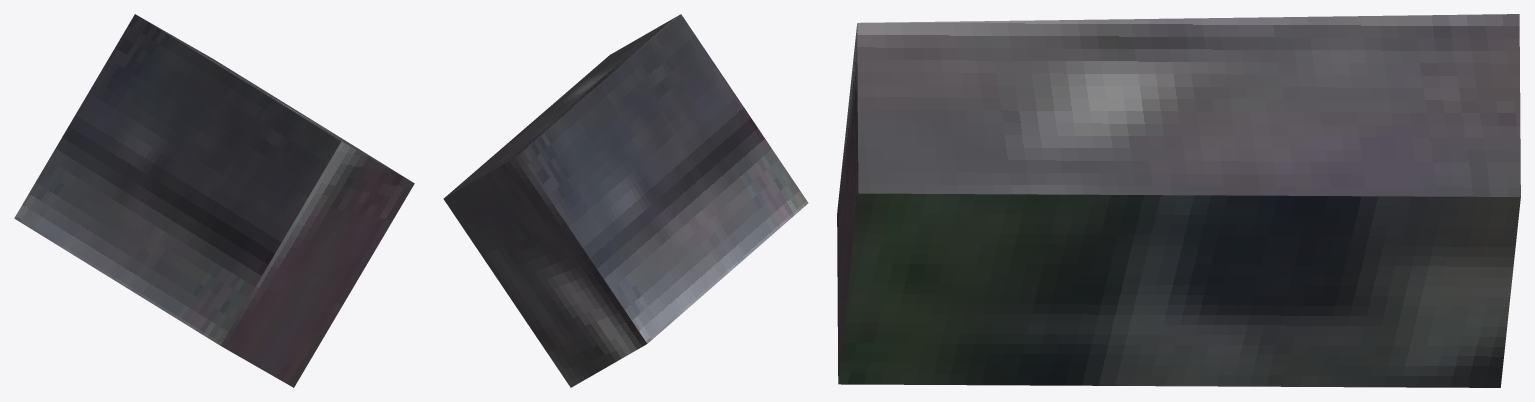
3 views of the same model, side by side, from view 1: azimuth 30°, elevation 25°; view 2: azimuth 150°, elevation 25°; view 3: azimuth 270°, elevation 25° (orthographic). The views are drawn at different scales.
Visible parts, largest first — view 1: BAG_0599100010002813; view 2: BAG_0599100010002813; view 3: BAG_0599100010002813.
Boxes of the visible parts, x1,y1,x2,y2 form: BAG_0599100010002813: (14, 14, 414, 387); BAG_0599100010002813: (443, 14, 808, 387); BAG_0599100010002813: (837, 14, 1520, 387).
Size of the model in its own units: 2.66 by 2.76 by 4.04.
2 materials, 1 textured.
